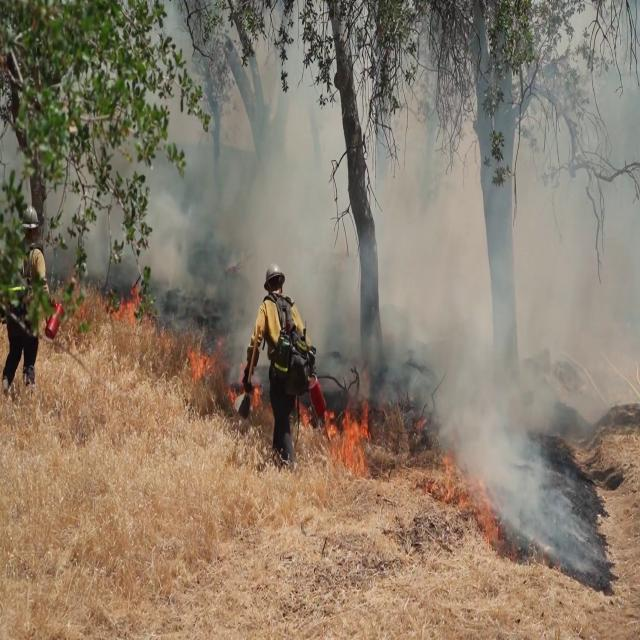Fire: (296, 382, 380, 470), (182, 323, 211, 384), (109, 281, 134, 344)
Smoke: (380, 35, 640, 562), (129, 0, 389, 337)
